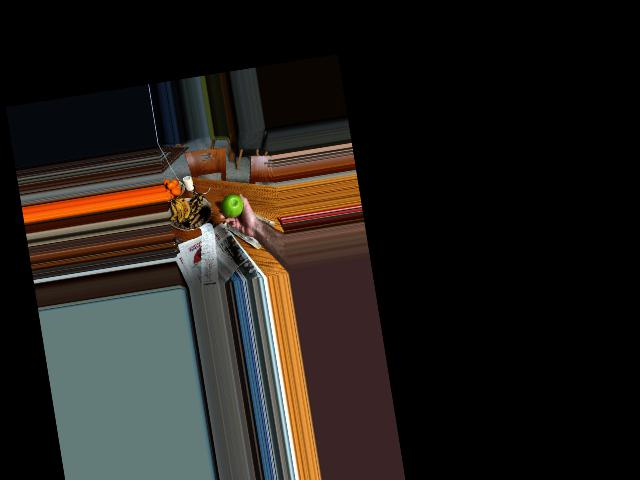apple: (218, 192, 247, 220)
